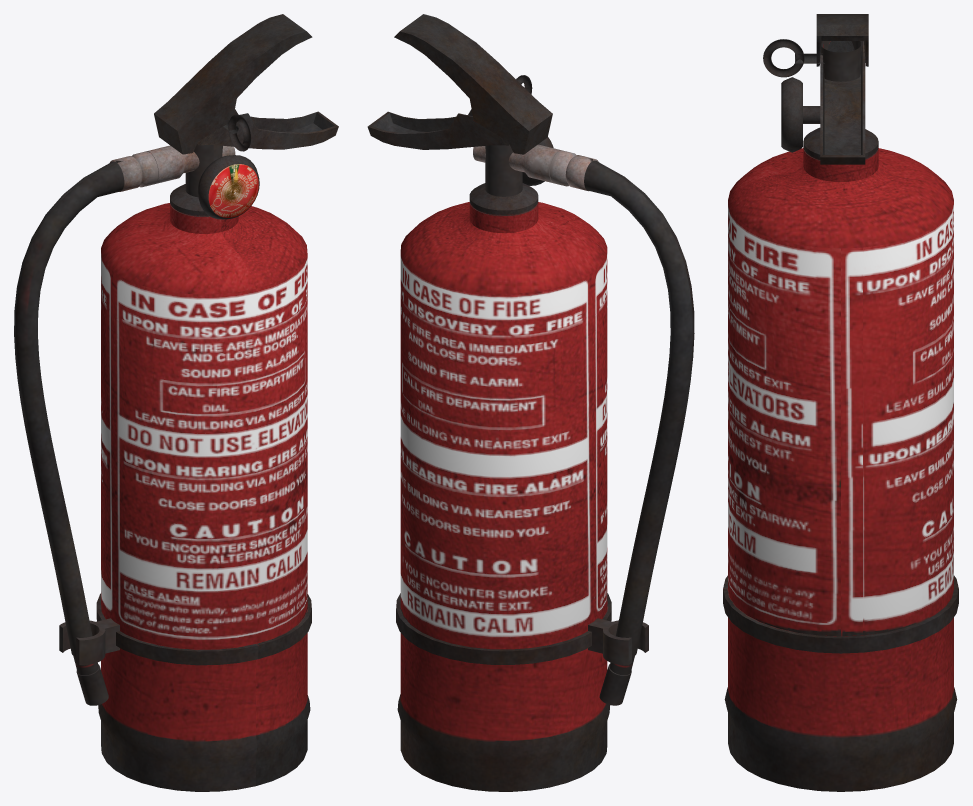
The model's file is fire.obj.
3 views of the same model, side by side, from view 1: azimuth 30°, elevation 25°; view 2: azimuth 150°, elevation 25°; view 3: azimuth 270°, elevation 25° (orthographic). The views are drawn at different scales.
Visible parts, largest first — view 1: Cylinder; view 2: Cylinder; view 3: Cylinder.
Part boxes in pixels (x1=…): Cylinder: x1=14, y1=14, x2=338, y2=791; Cylinder: x1=367, y1=14, x2=694, y2=791; Cylinder: x1=723, y1=14, x2=958, y2=791.
Size of the model in its own units: 0.161 by 0.3445 by 0.0959.
1 material, 1 textured.
